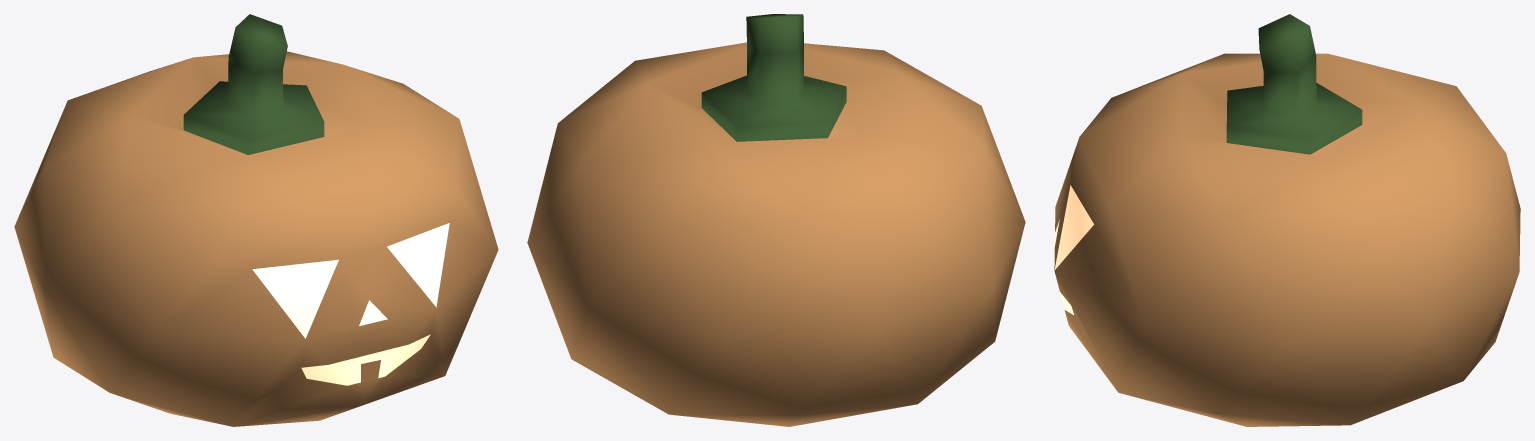
File: pumpkinLightOrange.glb
The picture shows the model from 3 angles, left to right: view 1: azimuth 30°, elevation 25°; view 2: azimuth 150°, elevation 25°; view 3: azimuth 270°, elevation 25°; orthographic projection. The views are drawn at different scales.
Parts seen in each view (by area): view 1: PumpkinLightOrange; view 2: PumpkinLightOrange; view 3: PumpkinLightOrange.
Boxes of the visible parts, x1,y1,x2,y2 form: PumpkinLightOrange: [14, 14, 498, 426]; PumpkinLightOrange: [527, 14, 1025, 426]; PumpkinLightOrange: [1054, 14, 1520, 426].
Size of what is drawn, in the model's own units: 0.657 by 0.5213 by 0.6262.
Materials: 2 (1 with a texture image).
